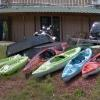Boat: (28, 39, 97, 83)
